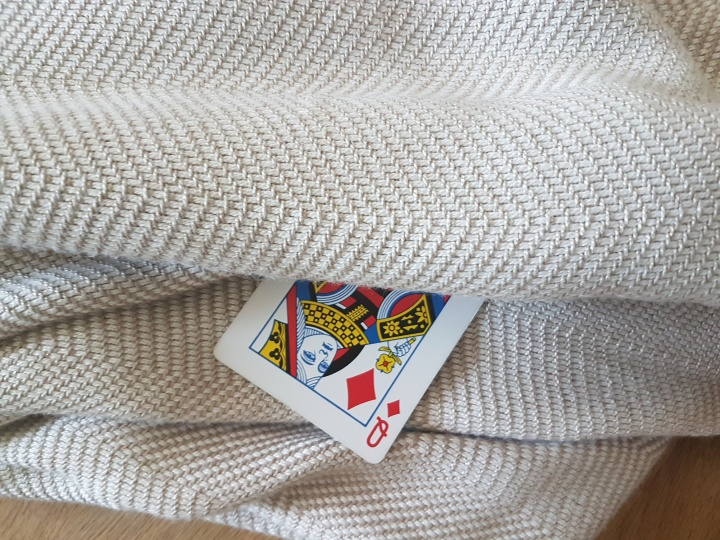queen: (214, 268, 484, 468)
